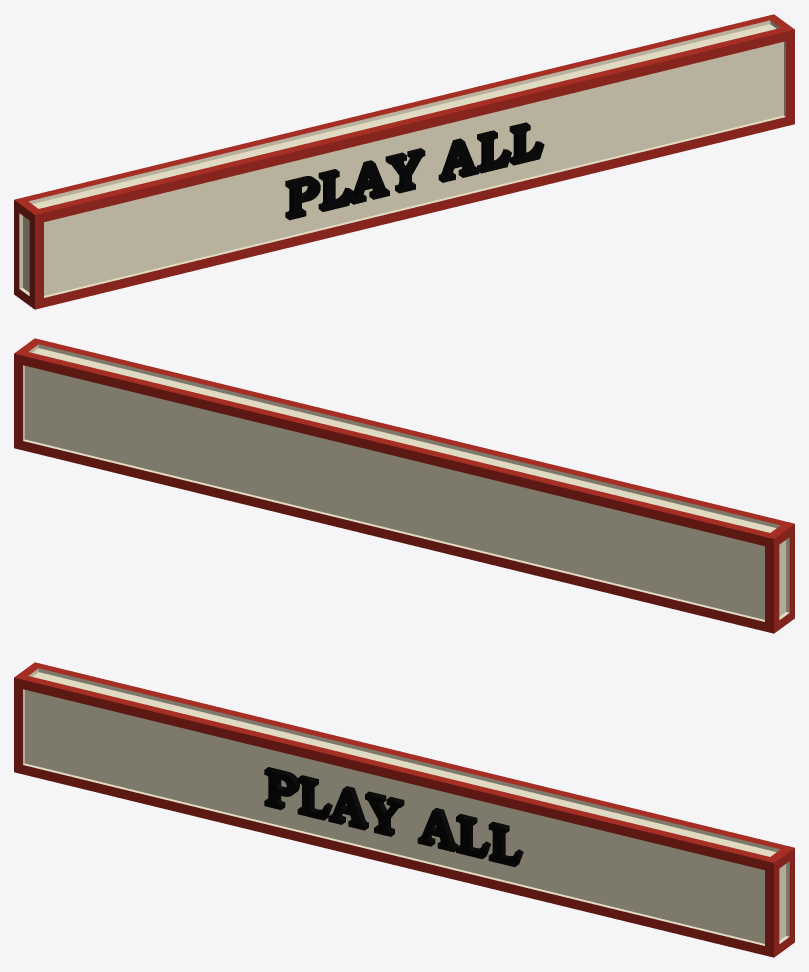
The model's file is playAll.glb.
The picture shows the model from 3 angles, top to bottom: view 1: azimuth 30°, elevation 25°; view 2: azimuth 150°, elevation 25°; view 3: azimuth 330°, elevation 25°; orthographic projection.
Visible parts, largest first — view 1: Button.001, Text.001; view 2: Button.001; view 3: Button.001, Text.001.
Boxes of the visible parts, <box> form: Button.001: <box>14,14,794,309</box>; Text.001: <box>285,122,544,220</box>; Button.001: <box>14,338,794,633</box>; Button.001: <box>14,662,794,957</box>; Text.001: <box>264,767,523,866</box>.
Bounding box in the file's own units: 10.5 × 1.25 × 0.5501.
